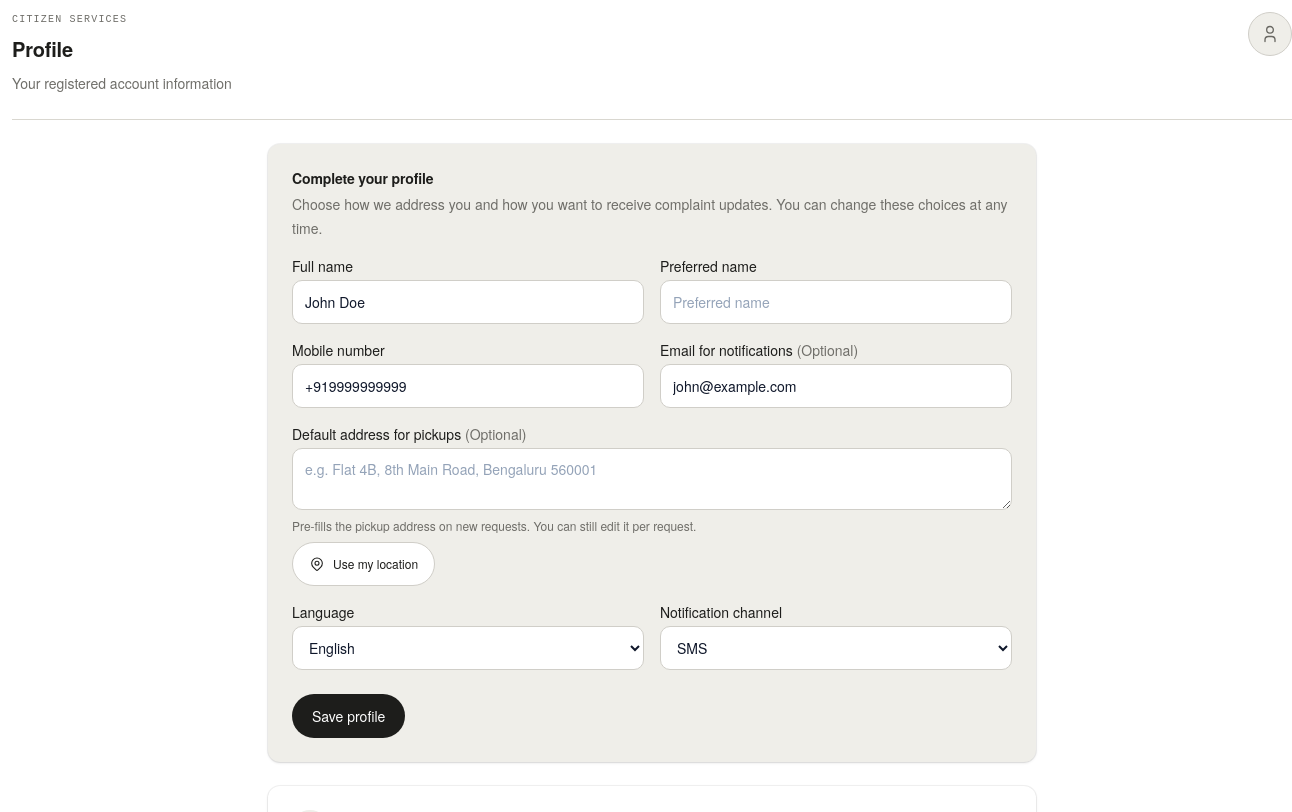
Test: ProfilePage › fills the default address from the current location
The image size is (1292, 812).
Click the button "Use my location". click: (364, 564)
box: x1=292 y1=542 x2=435 y2=586
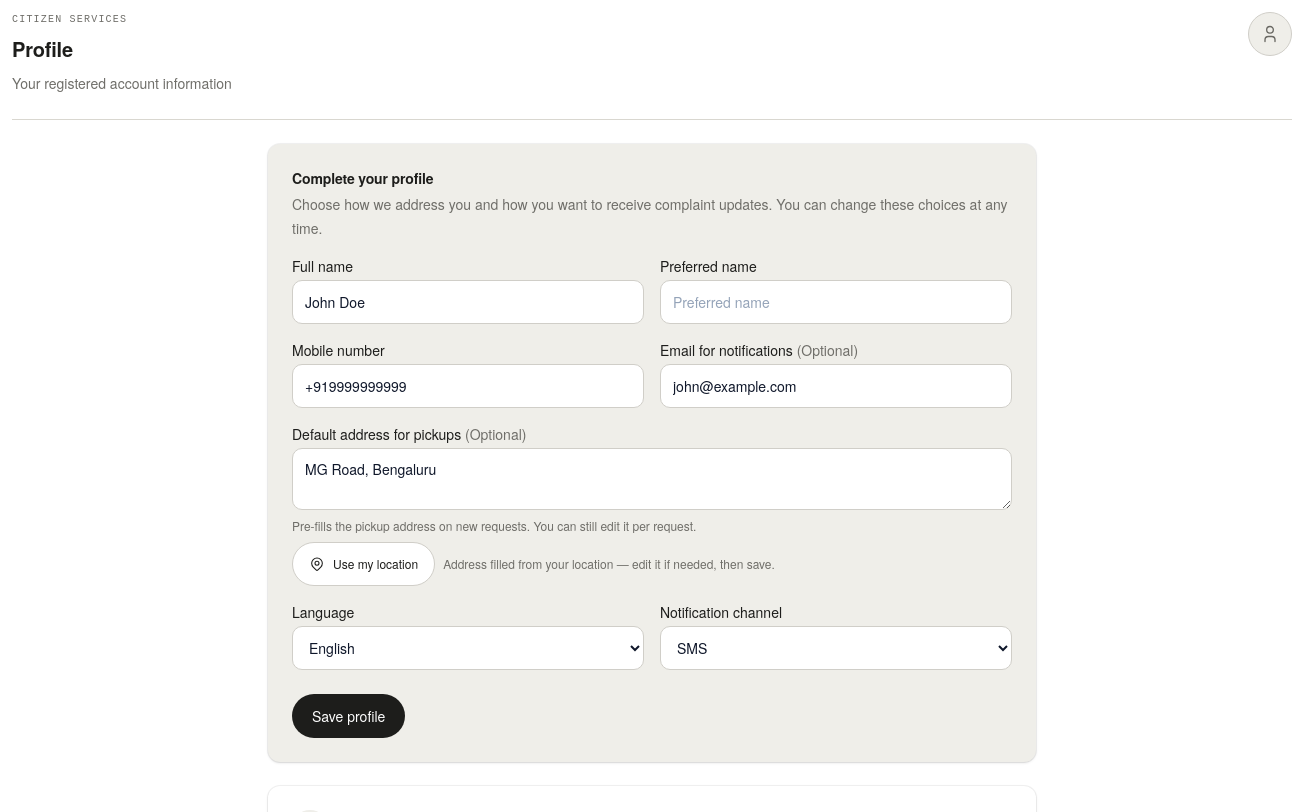
expect the text box labelled "Default address" holds "MG Road, Bengaluru": met, box x1=292 y1=448 x2=1012 y2=510
expect the text "Address filled from your location — edit it if needed, then save." is shown: met, box x1=443 y1=556 x2=775 y2=572
